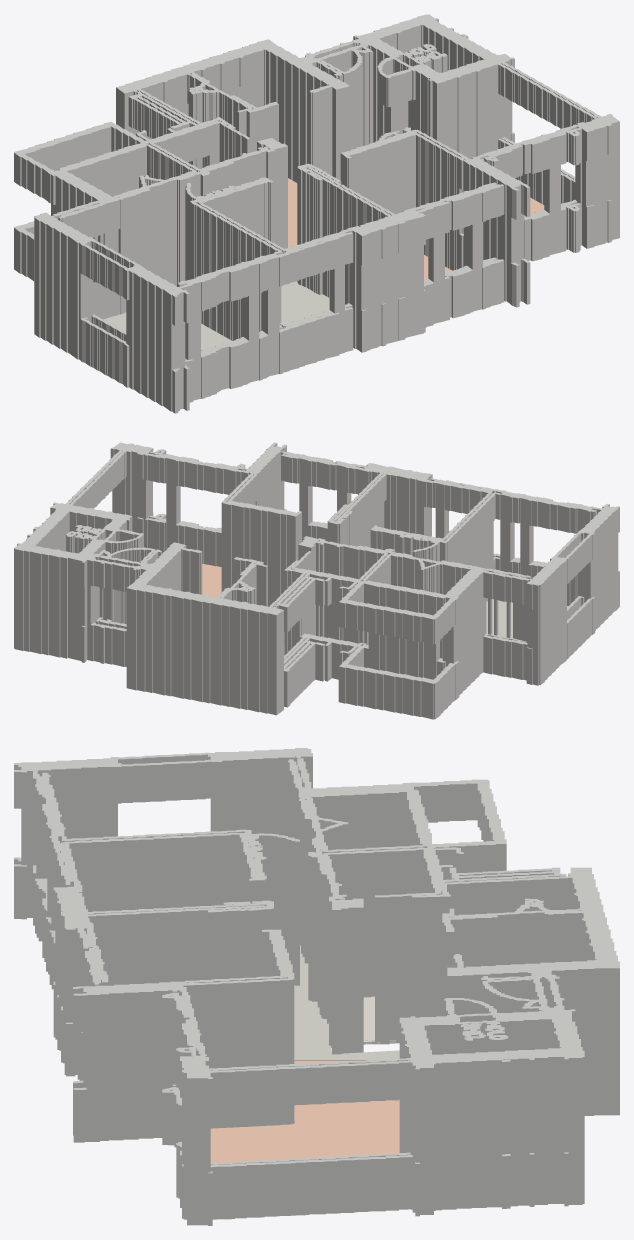
3 renders of one model, top to bottom at view 1: azimuth 30°, elevation 25°; view 2: azimuth 150°, elevation 25°; view 3: azimuth 270°, elevation 25°, orthographic. The views are drawn at different scales.
Visible parts, largest first — view 1: walls, room:yard:0, room:kitchen:1; view 2: walls, room:kitchen:1, room:yard:0; view 3: walls, room:kitchen:1, room:yard:0.
Part boxes in pixels (x1,y1,x2,y2): walls: (14, 14, 619, 413); room:yard:0: (103, 281, 329, 350); room:kitchen:1: (288, 178, 544, 279); walls: (14, 442, 619, 719); room:kitchen:1: (202, 564, 284, 642); room:yard:0: (284, 599, 567, 655); walls: (14, 748, 619, 1225); room:kitchen:1: (210, 1060, 399, 1162); room:yard:0: (294, 945, 399, 1060).
Size of the model in its own units: 13.52 by 2.8 by 10.47.
